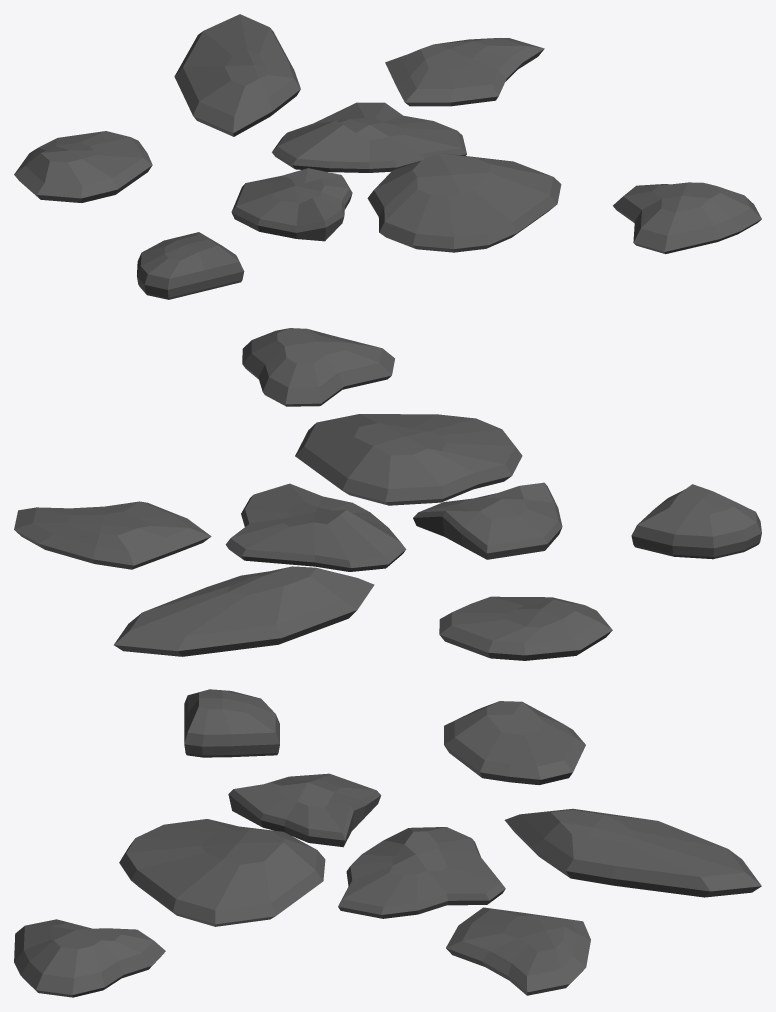
File: palmrock8.glb
3 views of the same model, one above another, from view 1: azimuth 30°, elevation 25°; view 2: azimuth 150°, elevation 25°; view 3: azimuth 270°, elevation 25° (orthographic). The views are drawn at different scales.
Parts seen in each view (by area): view 1: PalmRock9-col; view 2: PalmRock9-col; view 3: PalmRock9-col.
Part boxes in pixels (box(x1,y1,x2,y2)): PalmRock9-col: box(14, 14, 761, 299); PalmRock9-col: box(14, 328, 761, 660); PalmRock9-col: box(14, 689, 761, 997).
Bounding box in the file's own units: 1.15 × 0.076 × 1.25.
Materials: 1 (1 with a texture image).
